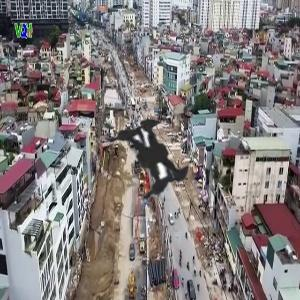drone: (26, 22, 278, 274)
